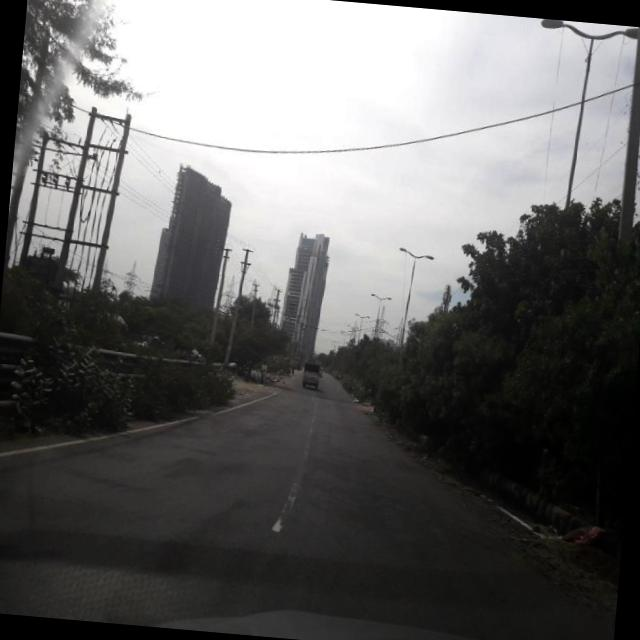crack: (327, 468, 473, 546)
pothole: (313, 546, 387, 616)
